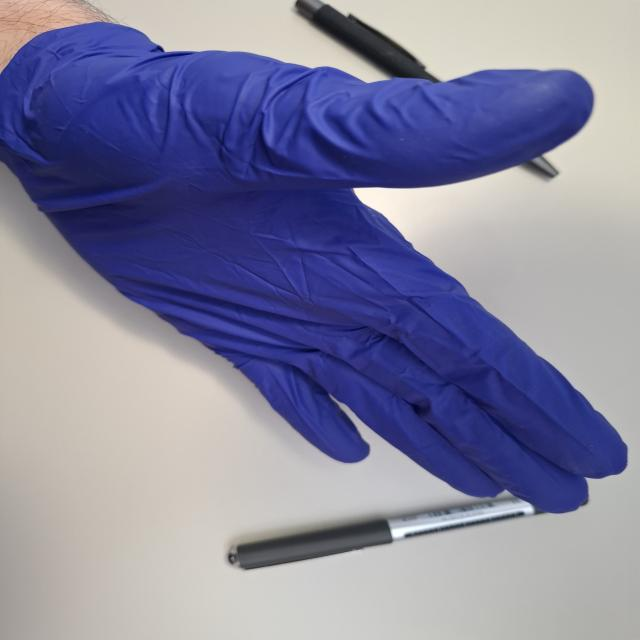glove_on: (3, 17, 630, 514)
